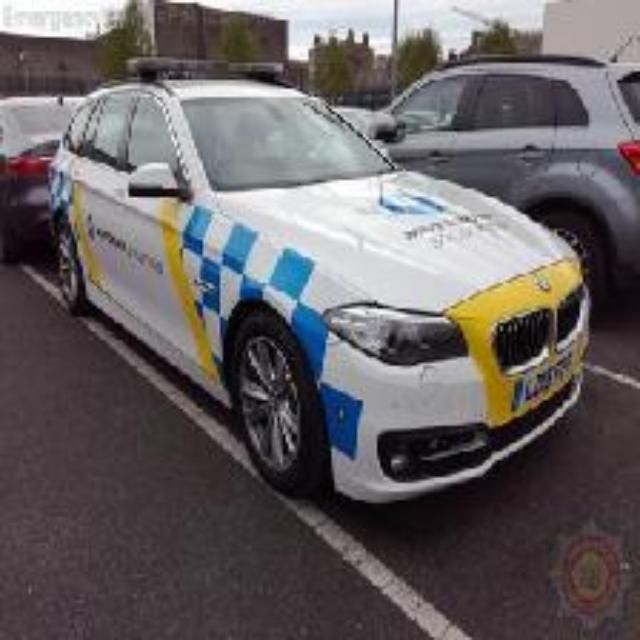emergency: (52, 49, 590, 494)
